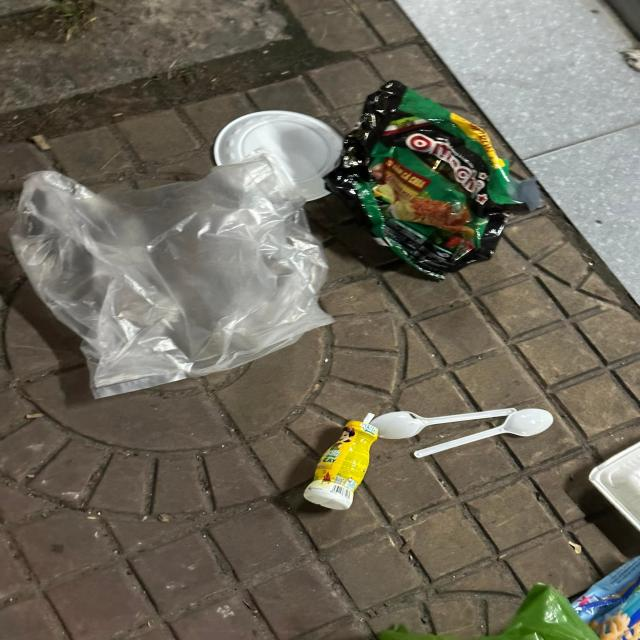bag: (5, 156, 335, 401)
bottle: (302, 410, 379, 510)
plastic holder: (212, 109, 347, 203)
plastic utensil: (415, 409, 554, 458), (366, 407, 517, 439)
snack package: (322, 80, 544, 281)
